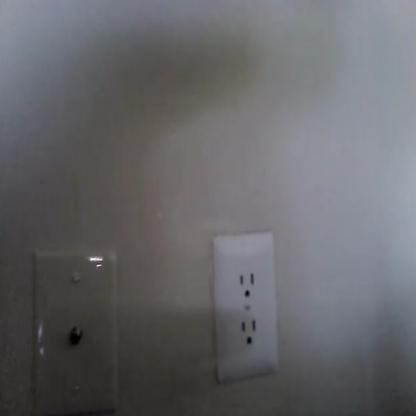OUTLET: (214, 233, 279, 377)
